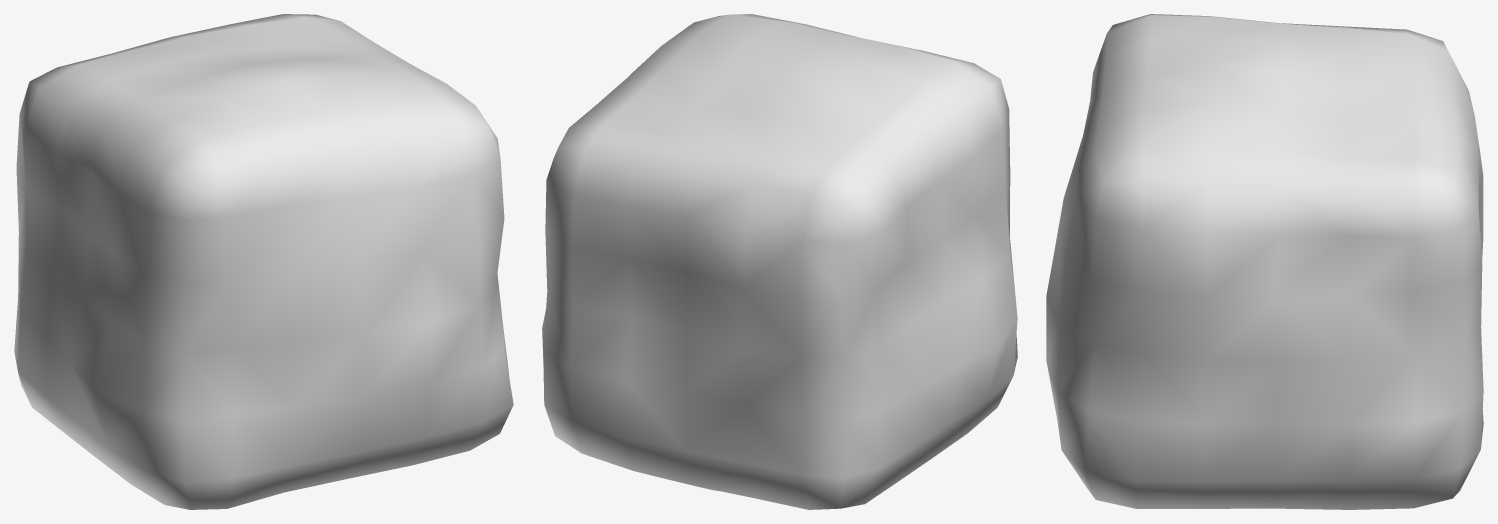
Rendered from Glaçon.fbx.
The picture shows the model from 3 angles, left to right: view 1: azimuth 30°, elevation 25°; view 2: azimuth 150°, elevation 25°; view 3: azimuth 270°, elevation 25°; orthographic projection. The views are drawn at different scales.
Parts seen in each view (by area): view 1: glacon_low; view 2: glacon_low; view 3: glacon_low.
Part boxes in pixels (box(x1,y1,x2,y2)): glacon_low: box(14, 14, 513, 509); glacon_low: box(542, 14, 1017, 509); glacon_low: box(1046, 14, 1483, 509).
Size of the model in its own units: 53.77 by 52.34 by 51.95.
1 material, 1 textured.
